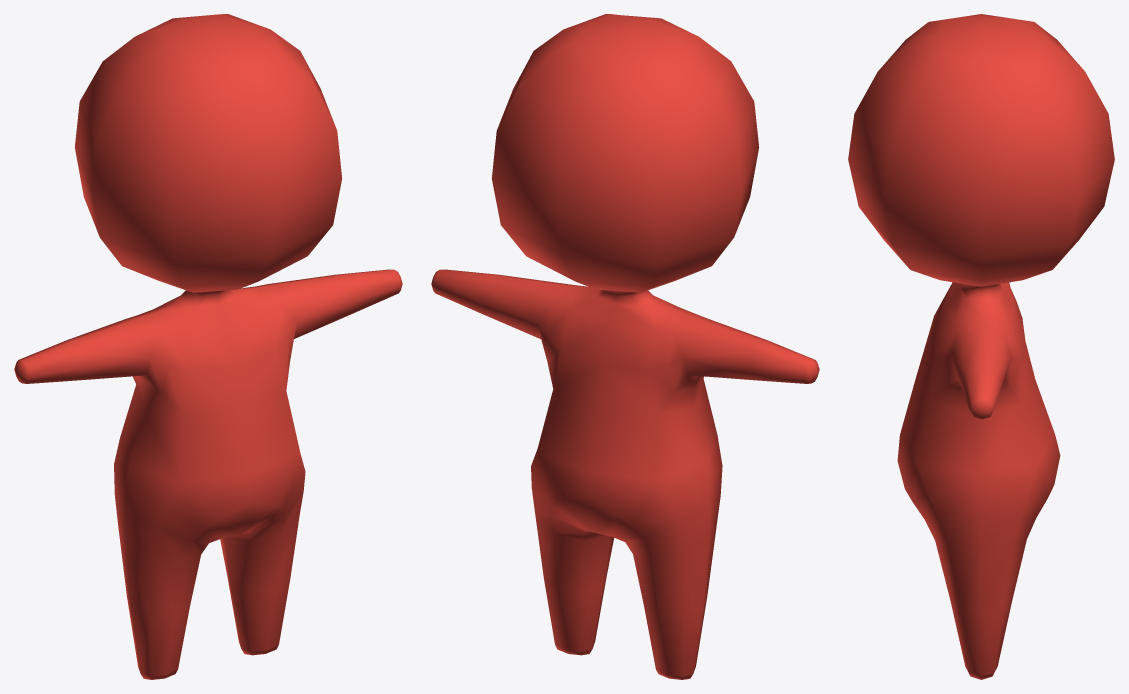
Rendered from character.fbx.
3 views of the same model, side by side, from view 1: azimuth 30°, elevation 25°; view 2: azimuth 150°, elevation 25°; view 3: azimuth 270°, elevation 25° (orthographic). The views are drawn at different scales.
Visible parts, largest first — view 1: character; view 2: character; view 3: character.
Part boxes in pixels (bbox=[...]): character: bbox=[14, 14, 402, 679]; character: bbox=[431, 14, 819, 679]; character: bbox=[848, 14, 1114, 679].
Size of the model in its own units: 0.7926 by 1.25 by 0.4867.
